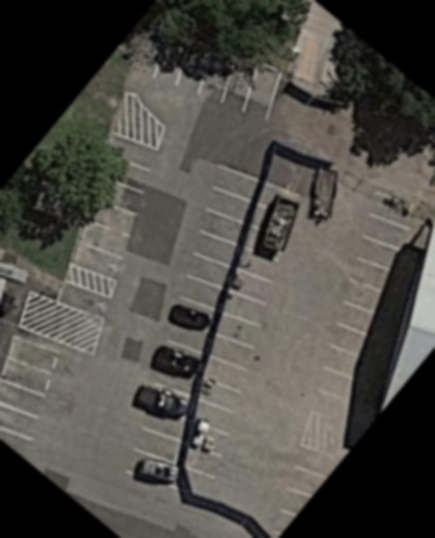parkingspot: (124, 161, 263, 489), (314, 188, 423, 409), (194, 243, 282, 438), (72, 131, 162, 282), (151, 31, 284, 123), (0, 330, 67, 463), (270, 442, 343, 536), (56, 279, 115, 323)
